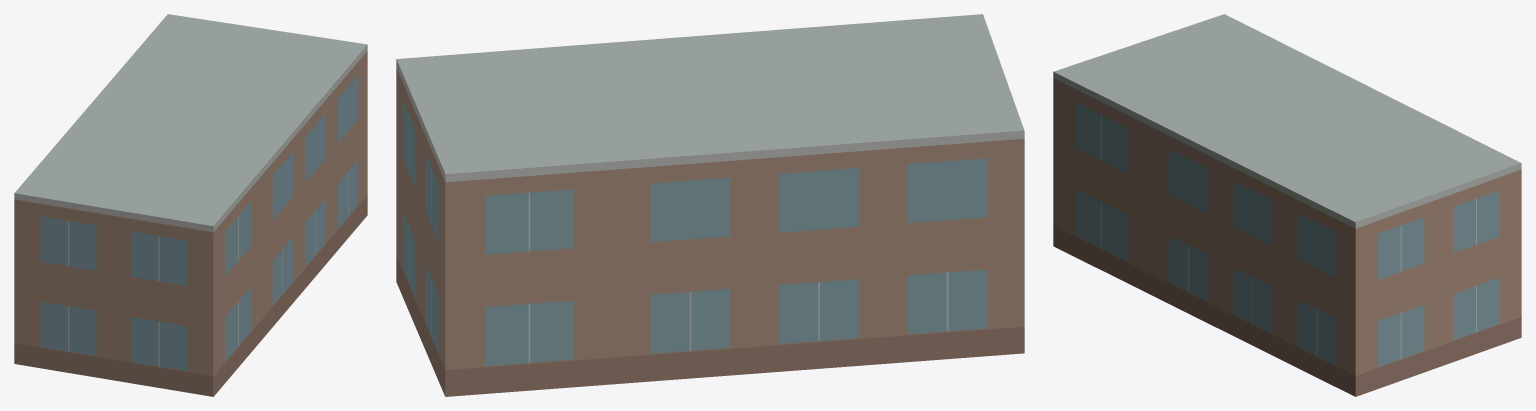
File: survey-upis-32930838.glb
The picture shows the model from 3 angles, left to right: view 1: azimuth 30°, elevation 25°; view 2: azimuth 150°, elevation 25°; view 3: azimuth 270°, elevation 25°; orthographic projection. The views are drawn at different scales.
Parts seen in each view (by area): view 1: survey-upis-32930838.tmp; view 2: survey-upis-32930838.tmp; view 3: survey-upis-32930838.tmp.
Part boxes in pixels (x1,y1,x2,y2): survey-upis-32930838.tmp: [14, 14, 367, 396]; survey-upis-32930838.tmp: [396, 14, 1024, 396]; survey-upis-32930838.tmp: [1053, 14, 1521, 396].
Bounding box in the file's own units: 17.16 × 6.7 × 16.29.
